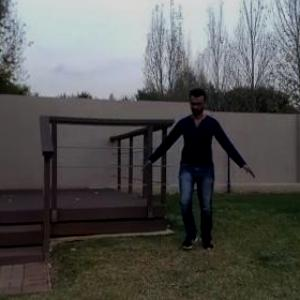land: (137, 74, 250, 268)
